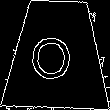O_N: (35, 28, 79, 81)
